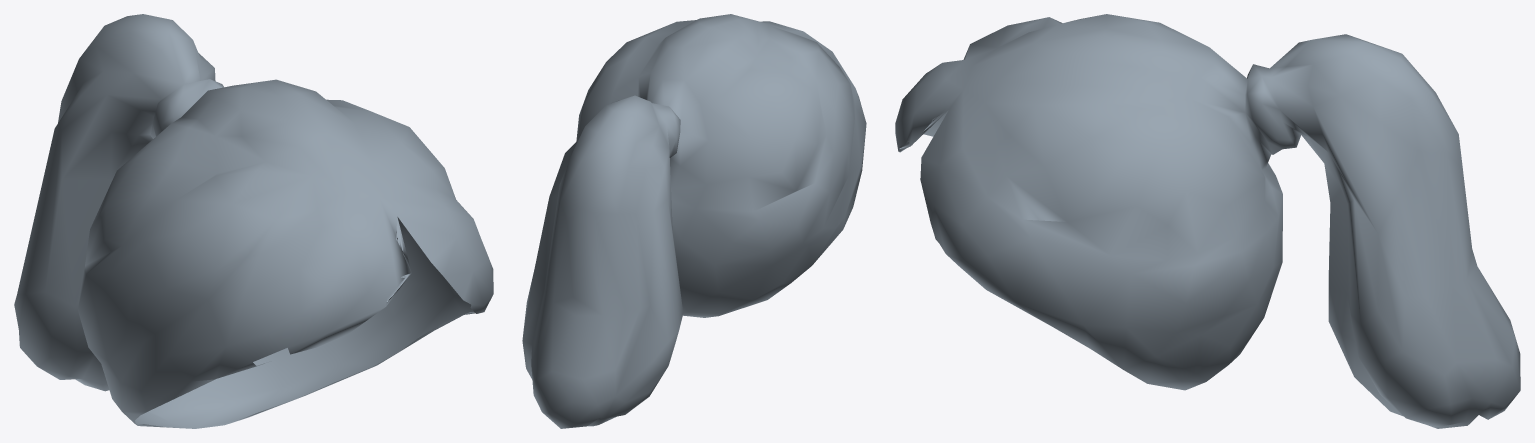
Rendered from cabelo_5.glb.
3 renders of one model, left to right at view 1: azimuth 30°, elevation 25°; view 2: azimuth 150°, elevation 25°; view 3: azimuth 270°, elevation 25°, orthographic. The views are drawn at different scales.
Parts seen in each view (by area): view 1: cabelo_5; view 2: cabelo_5; view 3: cabelo_5.
Part boxes in pixels (x1,y1,x2,y2): cabelo_5: [14, 14, 493, 428]; cabelo_5: [522, 14, 866, 428]; cabelo_5: [895, 14, 1520, 428].
Bounding box in the file's own units: 0.1797 × 0.2096 × 0.2987.
